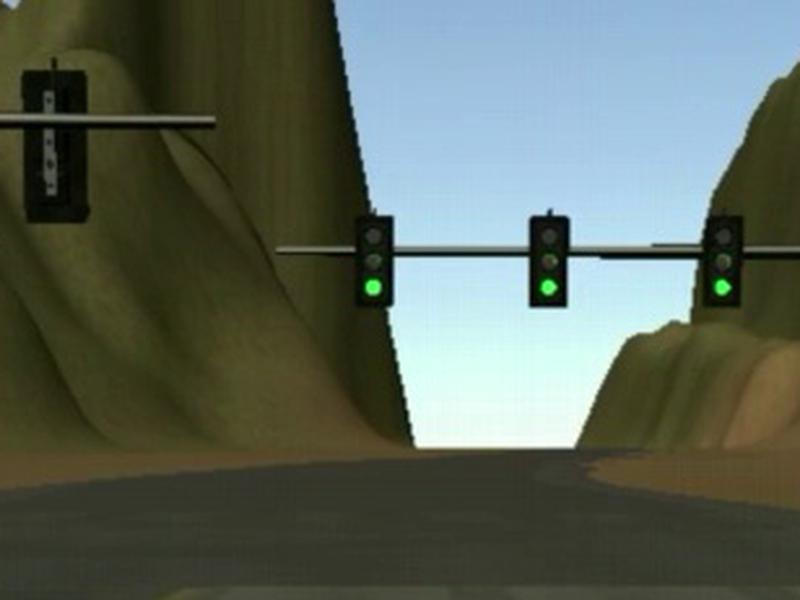Green: (527, 216, 570, 308), (702, 214, 744, 308), (355, 216, 392, 308)
